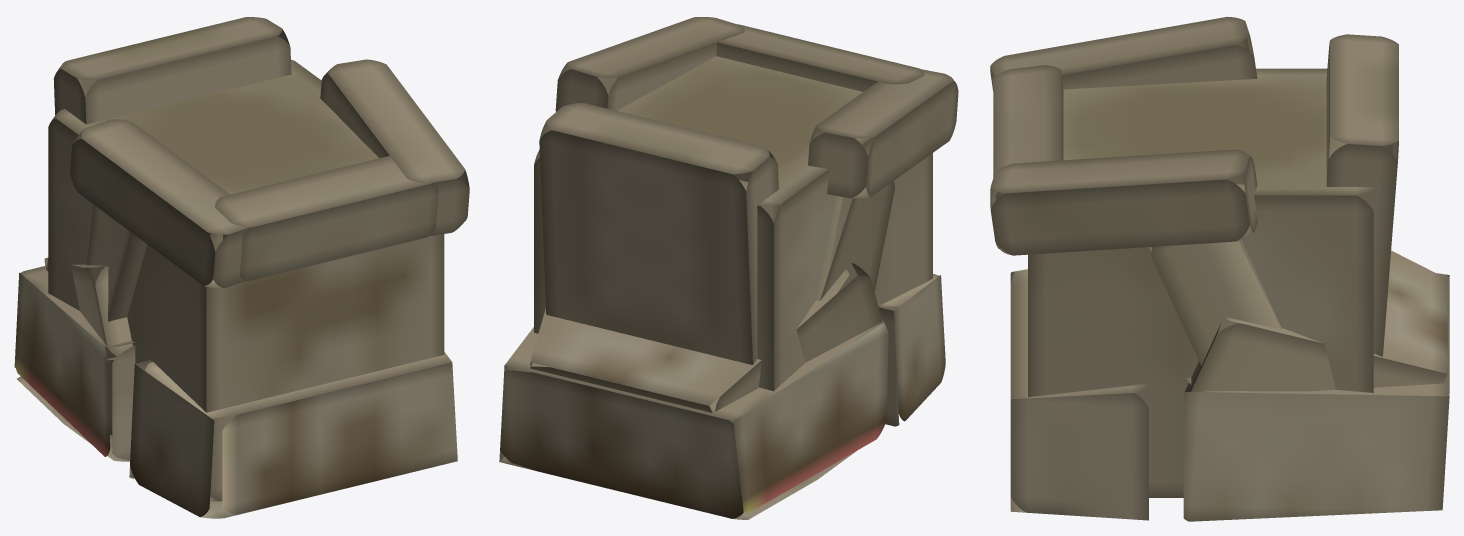
The model's file is ukrainian_veteran_b_l.obj.
The picture shows the model from 3 angles, left to right: view 1: azimuth 30°, elevation 25°; view 2: azimuth 150°, elevation 25°; view 3: azimuth 270°, elevation 25°; orthographic projection. The views are drawn at different scales.
Parts seen in each view (by area): view 1: cube; view 2: cube; view 3: cube.
Part boxes in pixels (box(x1,y1,x2,y2)): cube: box(14, 17, 469, 518); cube: box(499, 17, 958, 519); cube: box(990, 16, 1449, 521).
Size of the model in its own units: 0.3519 by 0.3565 by 0.4171.
